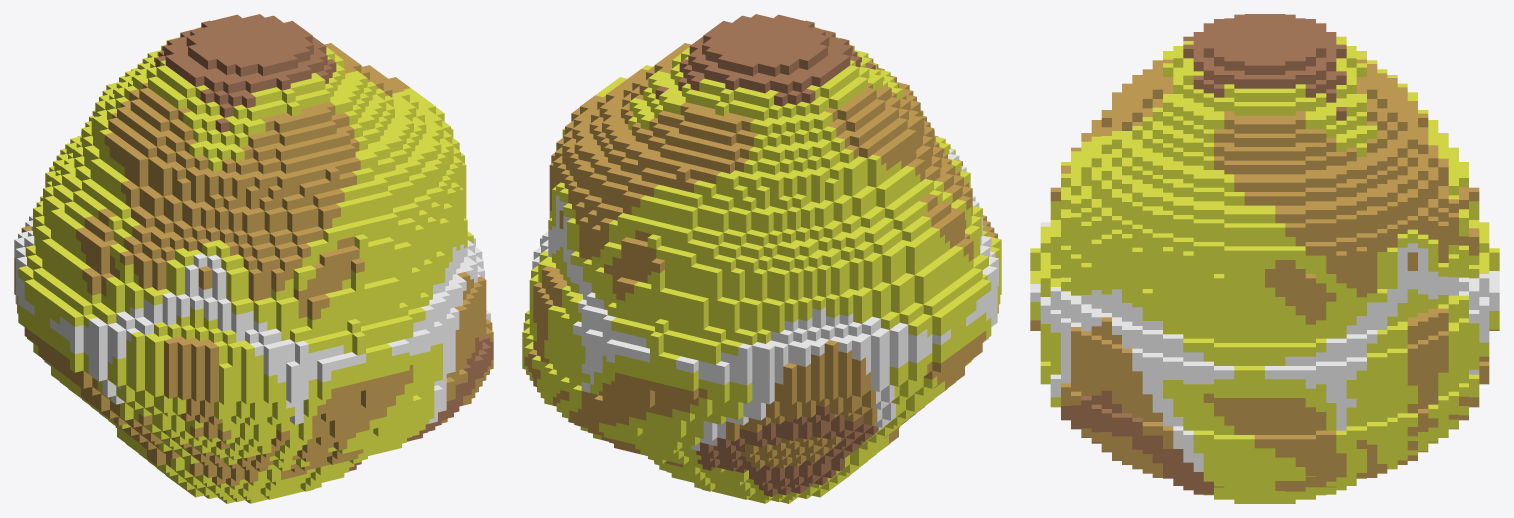
The model's file is jazida_ouro.glb.
3 views of the same model, side by side, from view 1: azimuth 30°, elevation 25°; view 2: azimuth 150°, elevation 25°; view 3: azimuth 270°, elevation 25° (orthographic).
Parts seen in each view (by area): view 1: q0; view 2: q0; view 3: q0.
Boxes of the visible parts, box(x1,y1,x2,y2) form: q0: box(14, 14, 493, 503); q0: box(522, 14, 1001, 503); q0: box(1030, 14, 1499, 503).
Size of the model in its own units: 47 by 48 by 46.
Materials: 1 (1 with a texture image).
